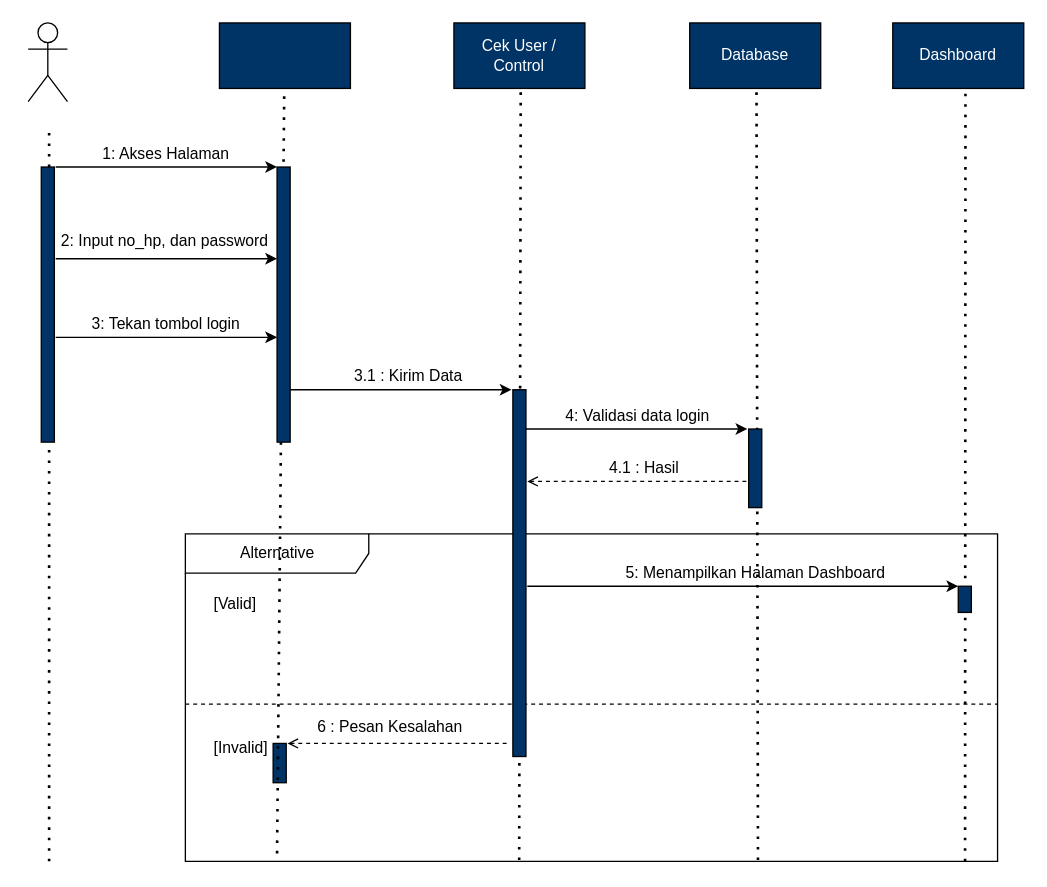
This 1047x887 diagram has some shape labels left out. The shapes that lost their labels are listed below. From the top down, each one's centre as x and y in pixels, then its label:
At point 47,62: "Asatidz".
At point 284,55: "Halaman Login".
